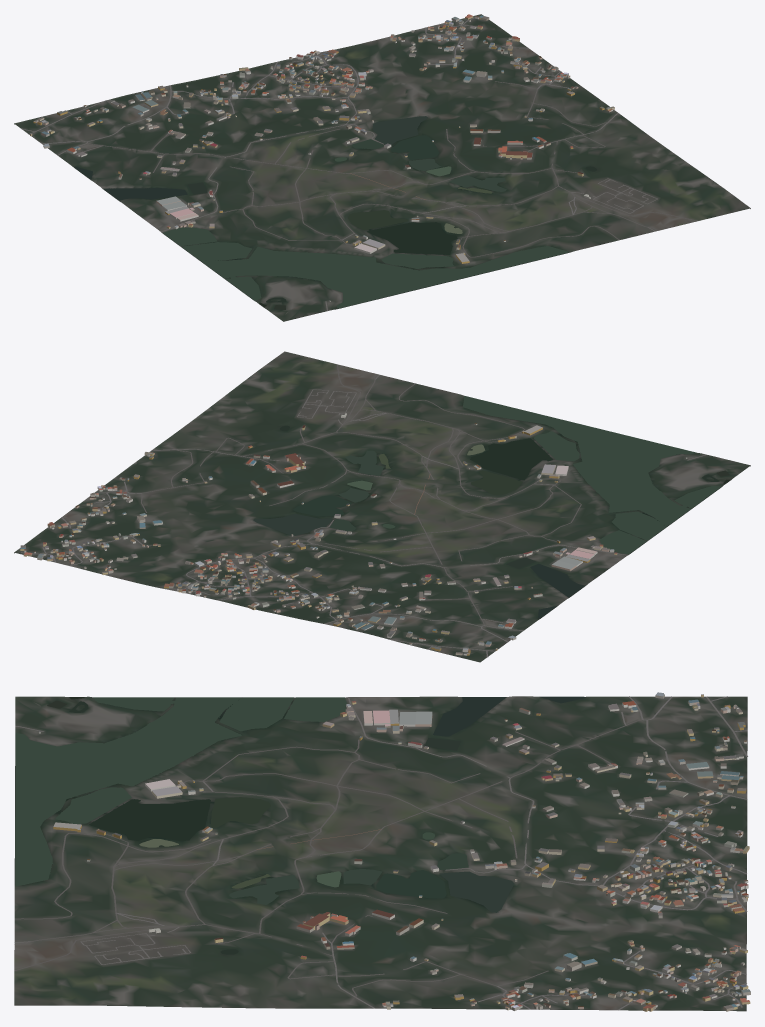
3 renders of one model, top to bottom at view 1: azimuth 30°, elevation 25°; view 2: azimuth 150°, elevation 25°; view 3: azimuth 270°, elevation 25°, orthographic. The views are drawn at different scales.
Parts seen in each view (by area): view 1: ground, water, buildings, roads; view 2: ground, water, buildings, roads; view 3: ground, water, buildings, roads.
Part boxes in pixels (x1,y1,x2,y2): ground: (14,14,750,321); water: (74,116,596,309); buildings: (30,14,614,301); roads: (21,17,697,310); ground: (14,351,750,662); water: (253,396,729,618); buildings: (20,413,687,655); roads: (21,364,706,657); ground: (14,696,747,1011); water: (15,696,586,954); buildings: (38,692,750,1011); roads: (14,696,747,1010).
Bounding box in the file's own units: 1413 × 24.54 × 1411.
